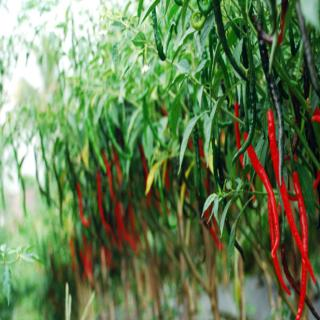Cabai Hijau: (192, 10, 208, 31)
